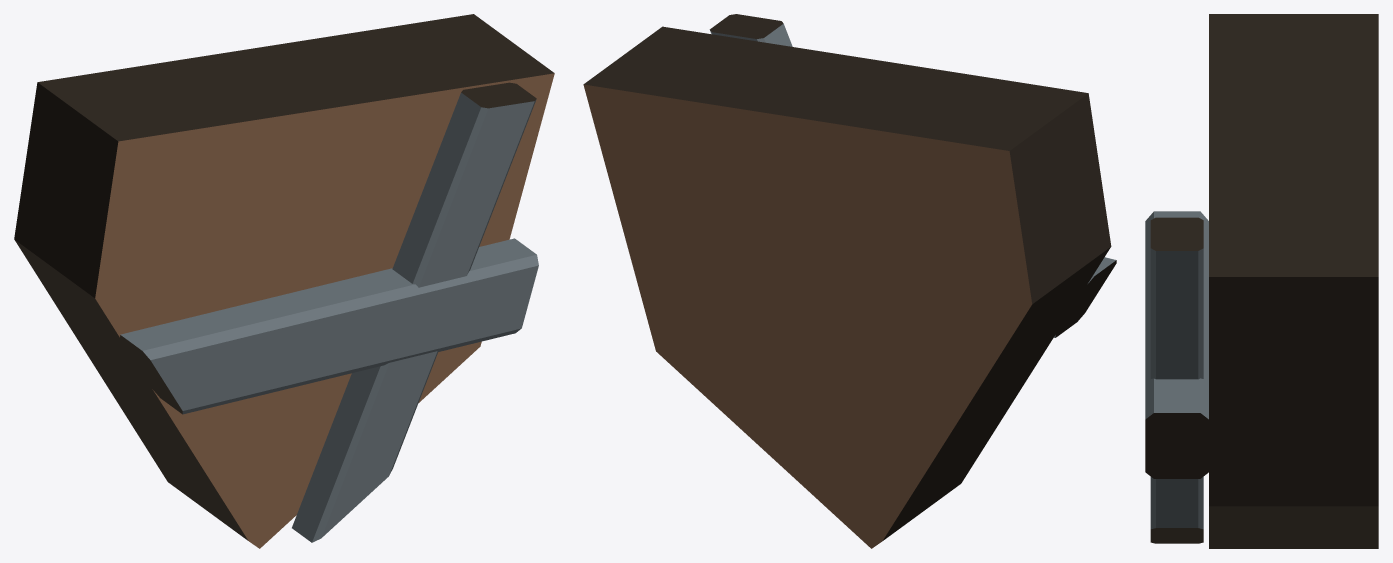
The model's file is SM_DoorShard_01_20.fbx.
3 views of the same model, side by side, from view 1: azimuth 30°, elevation 25°; view 2: azimuth 150°, elevation 25°; view 3: azimuth 270°, elevation 25° (orthographic). The views are drawn at different scales.
Visible parts, largest first — view 1: SM_DoorShard_01_20; view 2: SM_DoorShard_01_20; view 3: SM_DoorShard_01_20.
Part boxes in pixels (x1,y1,x2,y2): SM_DoorShard_01_20: [14, 14, 554, 548]; SM_DoorShard_01_20: [583, 14, 1116, 548]; SM_DoorShard_01_20: [1145, 14, 1378, 548].
Size of the model in its own units: 52.42 by 22 by 48.17.
